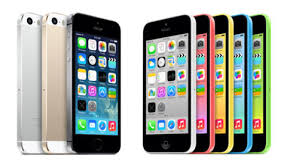iphone: (139, 12, 198, 156)
iphone5: (139, 11, 198, 155)
